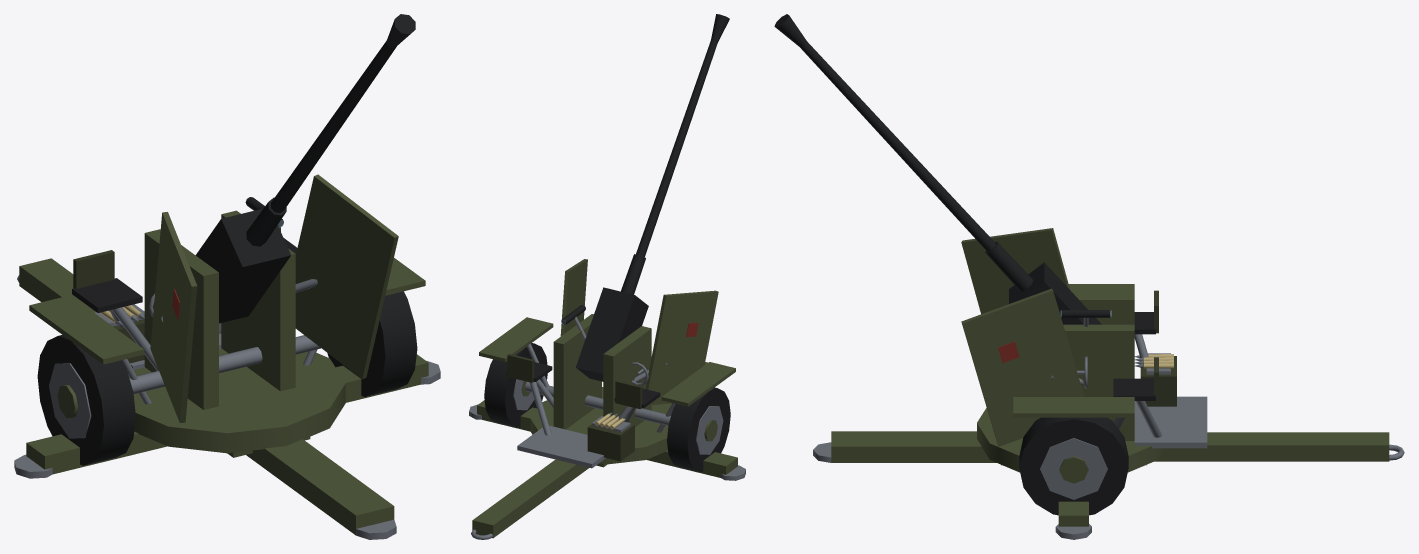
Rendered from 37mm-anti-aircraft-gun.glb.
3 views of the same model, side by side, from view 1: azimuth 30°, elevation 25°; view 2: azimuth 150°, elevation 25°; view 3: azimuth 270°, elevation 25° (orthographic). The views are drawn at different scales.
Parts seen in each view (by area): view 1: Mesh_LeftShield, Mesh_Turntable, Mesh_TireR, Mesh_RightShield, Mesh_LegForward, Mesh_GunBreech, Mesh_CheekL, Mesh_CheekR, Mesh_TireL, Mesh_FenderR, Mesh_BarrelTube, Mesh_LegRight (+13 smaller); view 2: Mesh_RightShield, Mesh_GunBreech, Mesh_CheekL, Mesh_LegAft, Mesh_TireR, Mesh_CheekR, Mesh_Turntable, Mesh_TireL, Mesh_LoaderGrating, Mesh_BarrelTube, Mesh_FenderR, Mesh_FenderL (+11 smaller); view 3: Mesh_LeftShield, Mesh_LegAft, Mesh_TireL, Mesh_LegForward, Mesh_CheekL, Mesh_RightShield, Mesh_LoaderGrating, Mesh_BarrelTube, Mesh_FenderL, Mesh_RimL, Mesh_Turntable, Mesh_GunBreech (+5 smaller).
Boxes of the visible parts, x1,y1,x2,y2 form: Mesh_LeftShield: (295, 174, 398, 379); Mesh_Turntable: (129, 348, 345, 453); Mesh_TireR: (37, 335, 135, 465); Mesh_RightShield: (150, 212, 197, 422); Mesh_LegForward: (246, 439, 394, 535); Mesh_GunBreech: (195, 208, 291, 323); Mesh_CheekL: (221, 210, 295, 391); Mesh_CheekR: (144, 229, 218, 409); Mesh_TireL: (327, 291, 417, 396); Mesh_FenderR: (29, 295, 144, 364); Mesh_BarrelTube: (271, 40, 396, 212); Mesh_LegRight: (26, 431, 167, 474); Mesh_RightShield: (645, 290, 718, 405); Mesh_GunBreech: (575, 287, 648, 381); Mesh_CheekL: (553, 314, 601, 429); Mesh_LegAft: (472, 459, 589, 538); Mesh_TireR: (667, 387, 730, 472); Mesh_CheekR: (603, 326, 651, 427); Mesh_Turntable: (530, 387, 671, 464); Mesh_TireL: (484, 343, 547, 427); Mesh_LoaderGrating: (517, 425, 605, 468); Mesh_BarrelTube: (636, 40, 717, 256); Mesh_FenderR: (661, 362, 735, 406); Mesh_FenderL: (479, 317, 553, 362); Mesh_LeftShield: (961, 288, 1084, 446); Mesh_LegAft: (1154, 432, 1389, 461); Mesh_TireL: (1019, 417, 1128, 515); Mesh_LegForward: (831, 431, 996, 462); Mesh_CheekL: (1063, 324, 1134, 440); Mesh_RightShield: (961, 228, 1069, 314); Mesh_LoaderGrating: (1134, 396, 1207, 448); Mesh_BarrelTube: (800, 41, 995, 251); Mesh_FenderL: (1013, 397, 1134, 417); Mesh_RimL: (1040, 438, 1107, 499); Mesh_Turntable: (977, 408, 1164, 472); Mesh_GunBreech: (1009, 262, 1101, 324).
Bounding box in the file's own units: 3.3 × 4 × 5.19.
2 materials, 2 textured.
